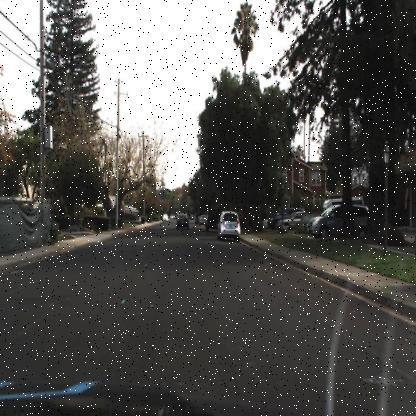car: (304, 202, 372, 242), (272, 209, 310, 233), (215, 210, 242, 243), (265, 210, 292, 232), (202, 209, 224, 235), (174, 210, 192, 233)
